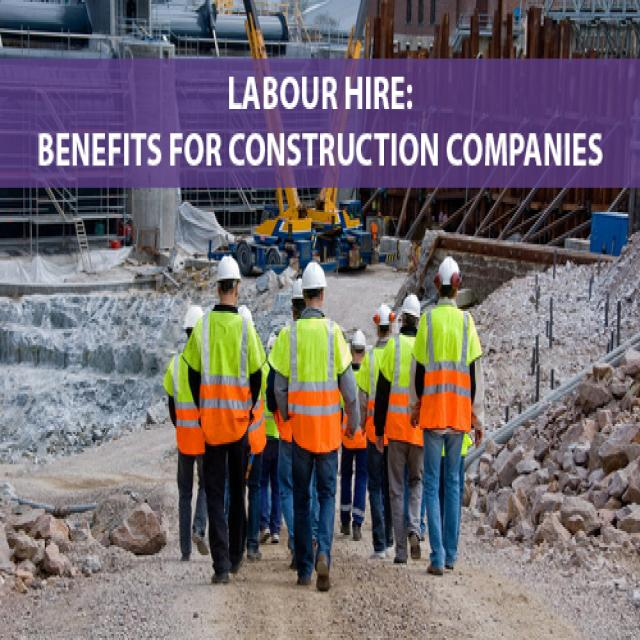Reflective-Jacket: (285, 313, 343, 446), (197, 307, 252, 444), (418, 303, 475, 432), (170, 350, 205, 454), (387, 335, 417, 438)
Safety-Helmet: (434, 254, 462, 291), (301, 258, 329, 293), (214, 252, 243, 285), (402, 291, 421, 317)
